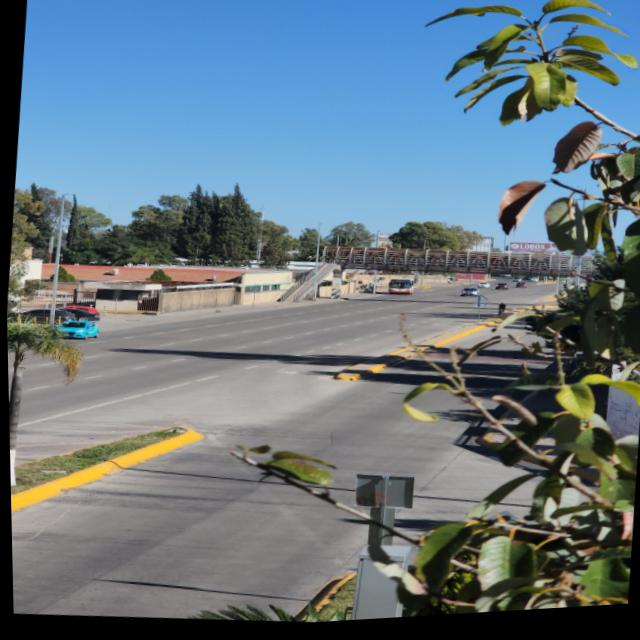Auto: (50, 315, 100, 342), (59, 304, 99, 324), (512, 285, 528, 295)
Autobus: (387, 280, 415, 302)
